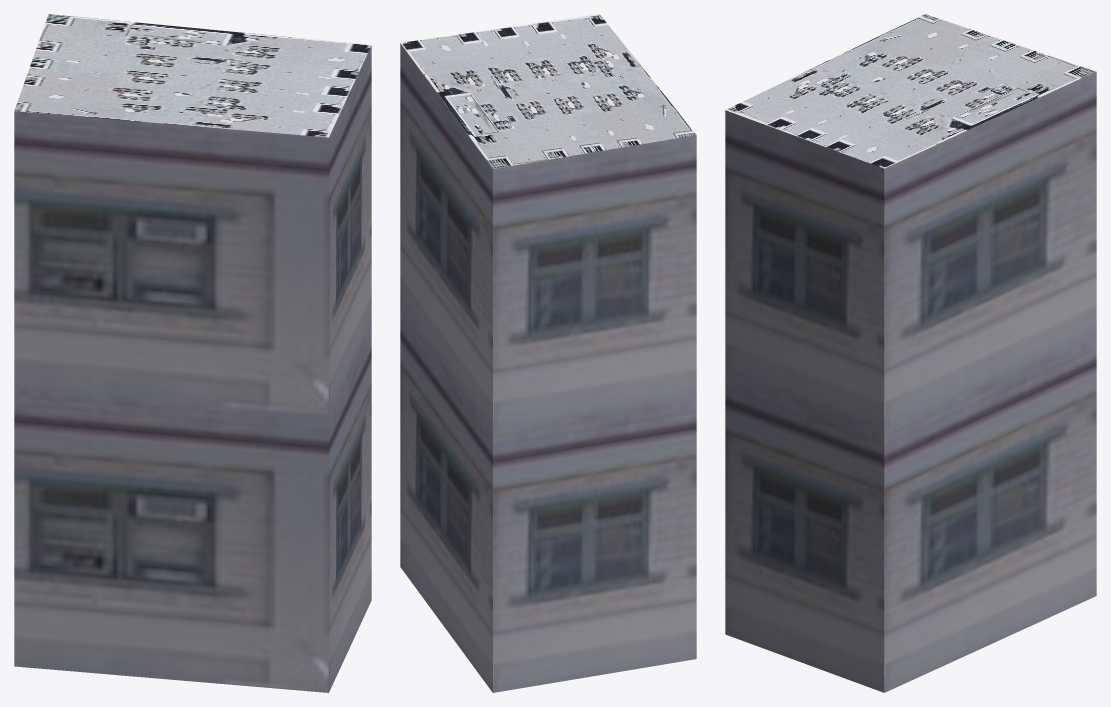
File: ResTex__1351.fbx
3 views of the same model, side by side, from view 1: azimuth 30°, elevation 25°; view 2: azimuth 150°, elevation 25°; view 3: azimuth 270°, elevation 25° (orthographic). The views are drawn at different scales.
Parts seen in each view (by area): view 1: CityEngineMaterial_1_m, CityEngineMaterial_4_m; view 2: CityEngineMaterial_1_m, CityEngineMaterial_4_m; view 3: CityEngineMaterial_1_m, CityEngineMaterial_4_m.
Boxes of the visible parts, box(x1,y1,x2,y2) form: CityEngineMaterial_1_m: box(14, 45, 371, 692); CityEngineMaterial_4_m: box(14, 14, 371, 137); CityEngineMaterial_1_m: box(400, 43, 696, 692); CityEngineMaterial_4_m: box(400, 14, 696, 168); CityEngineMaterial_1_m: box(725, 72, 1096, 692); CityEngineMaterial_4_m: box(725, 14, 1096, 168).
Size of the model in its own units: 3.8 by 6 by 3.85.
2 materials, 2 textured.
